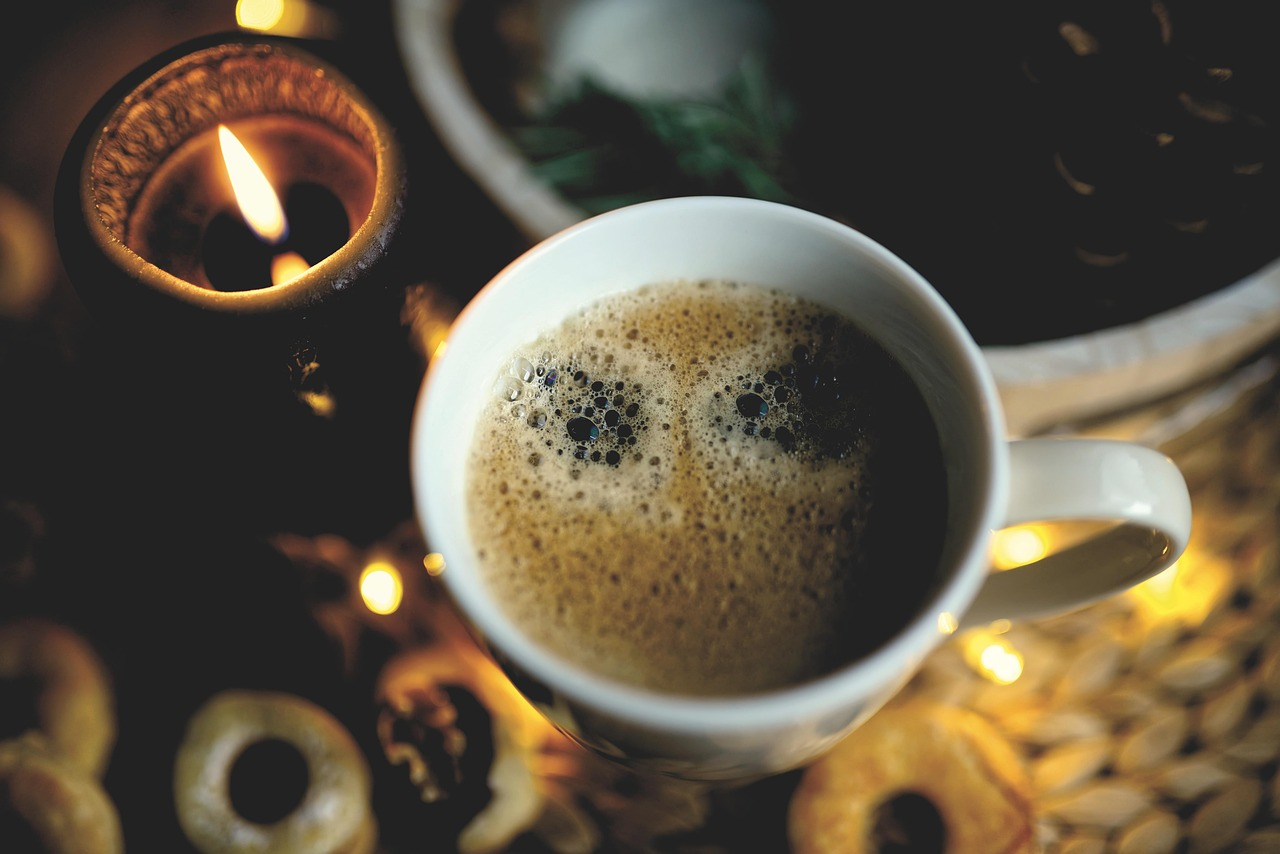mug: (380, 194, 1203, 787)
